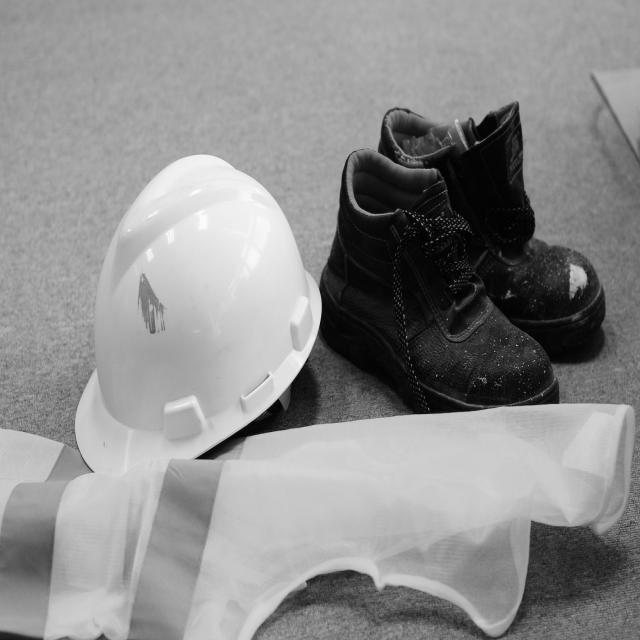safety_helmet: (74, 156, 323, 476)
